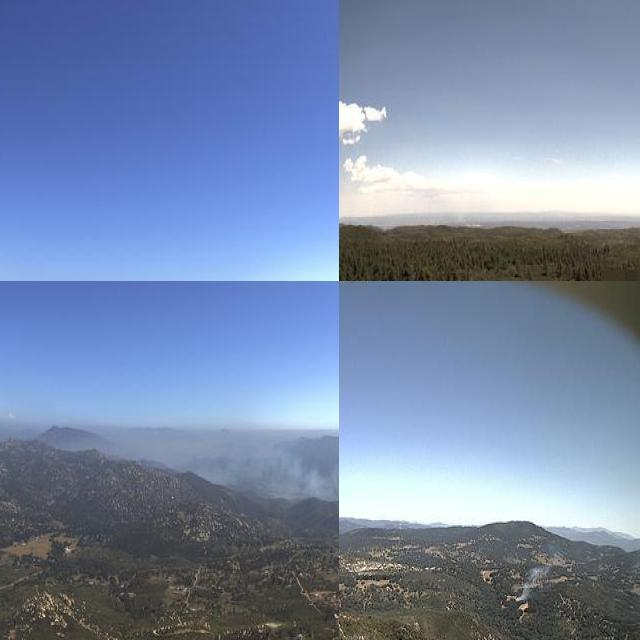smoke: (164, 403, 339, 509), (428, 184, 482, 228), (513, 550, 561, 598)
